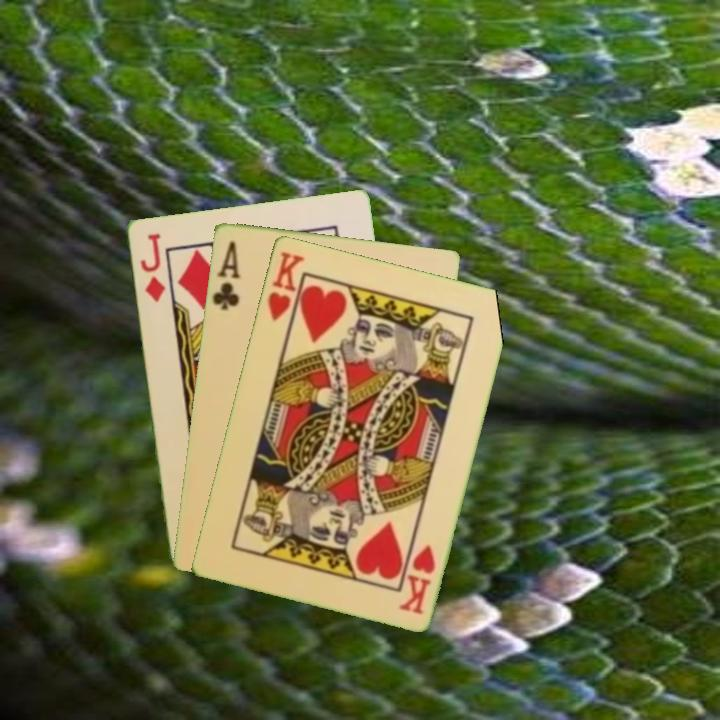Ac: (209, 237, 243, 313)
Jd: (136, 229, 168, 305)
Kh: (264, 247, 307, 333), (396, 540, 438, 617)
